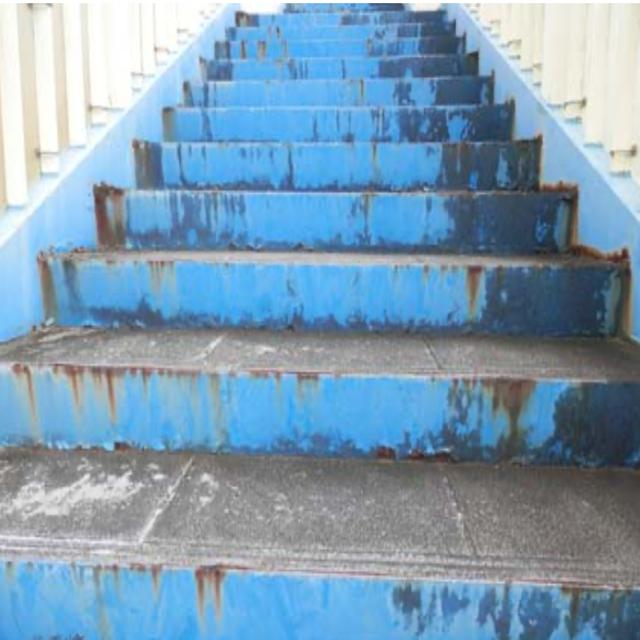corrosion: (461, 140, 640, 484), (17, 184, 177, 446), (57, 544, 276, 639)
